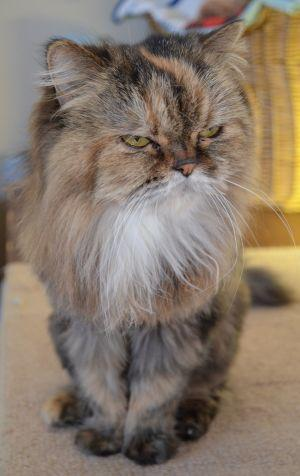persian: (25, 12, 261, 245)
